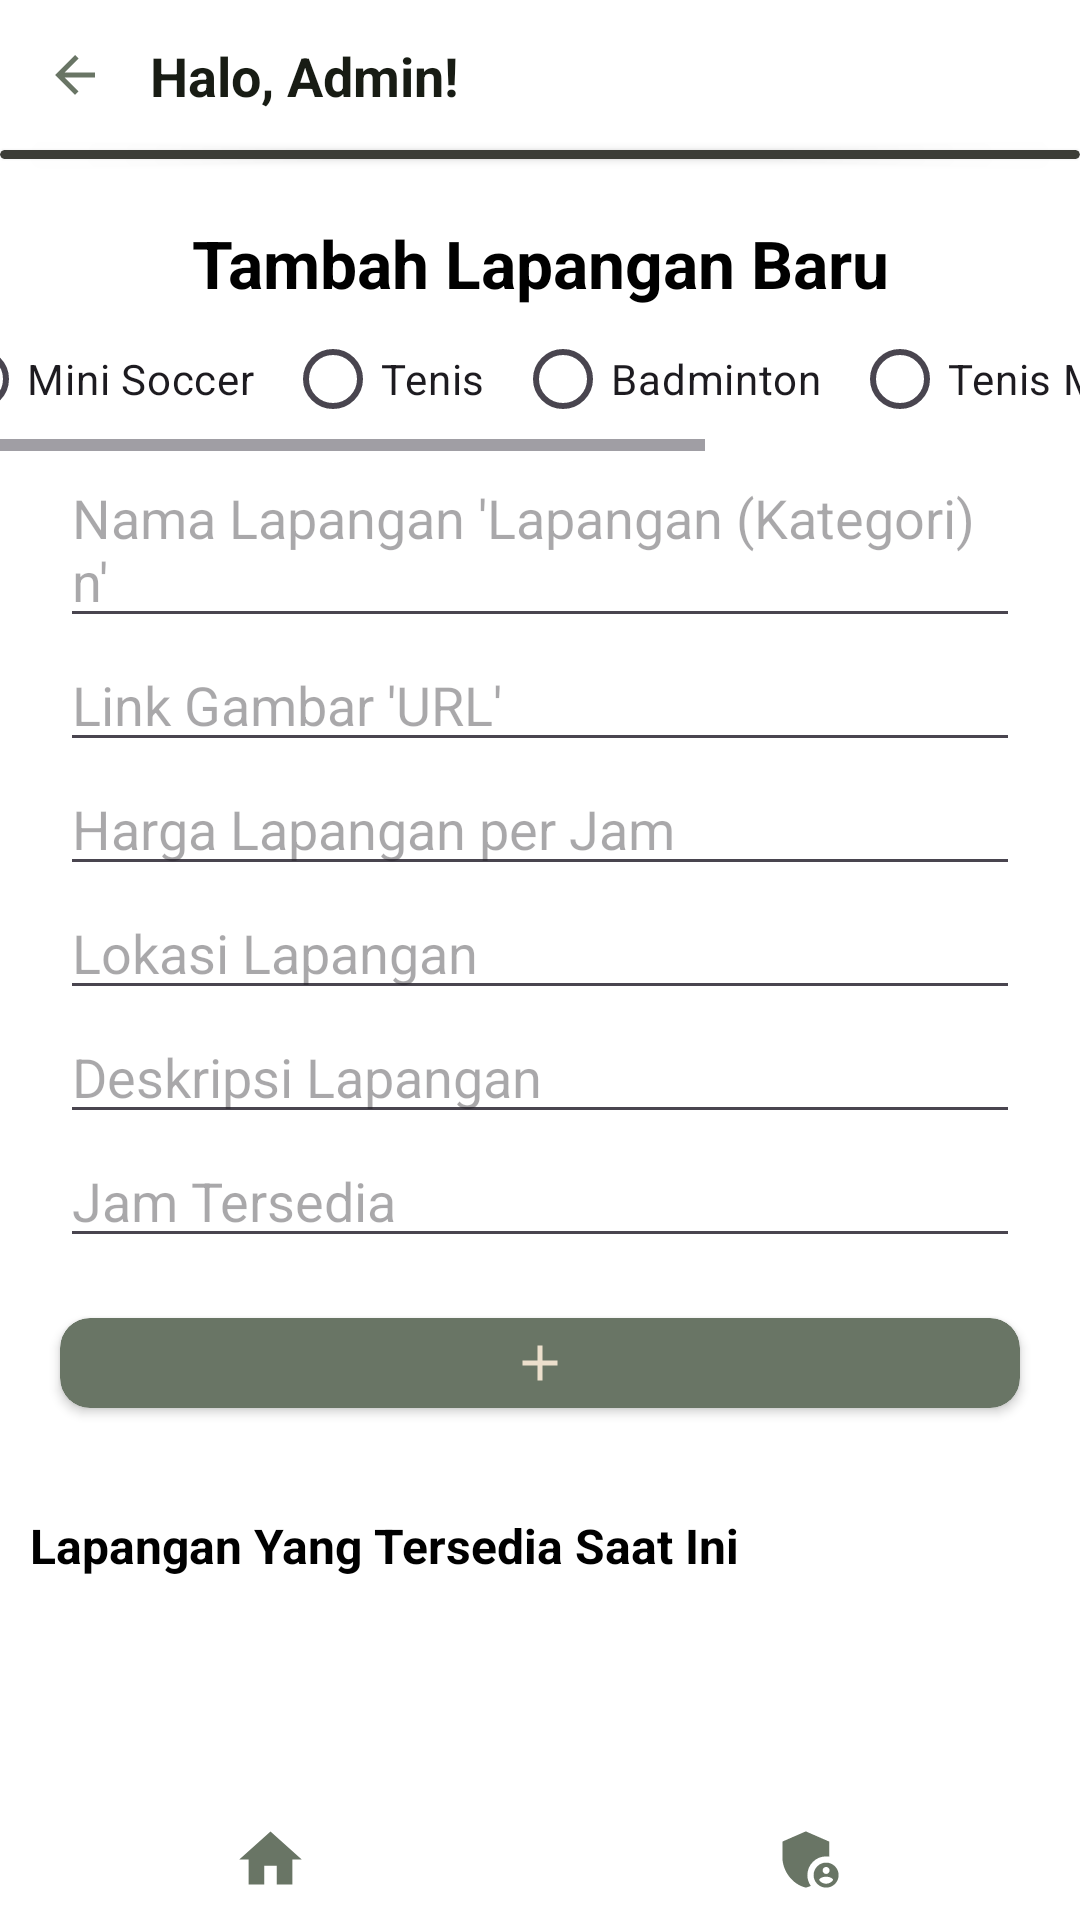

Point at icon controls on the screen. Image size 1080px x 1920px, points as (x,y).
admin: (810,1859)
home: (270,1858)
kembali: (75,75)
tambah: (540,1363)
